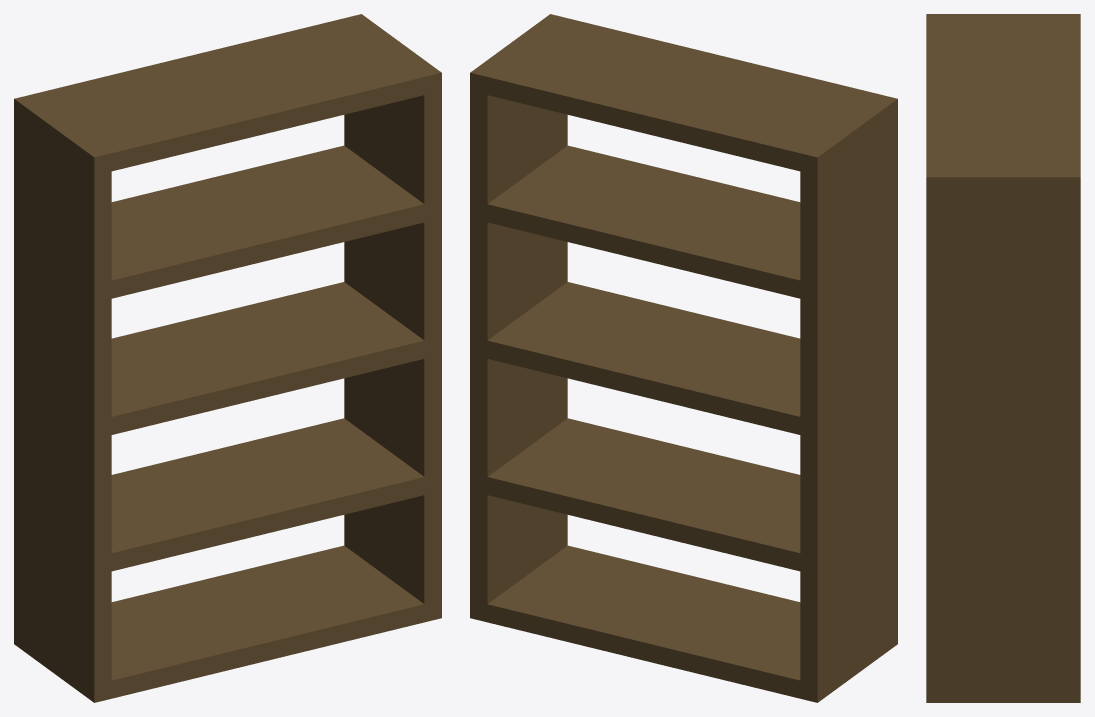
The model's file is bookshelf.fbx.
3 views of the same model, side by side, from view 1: azimuth 30°, elevation 25°; view 2: azimuth 150°, elevation 25°; view 3: azimuth 270°, elevation 25° (orthographic). The views are drawn at different scales.
Visible parts, largest first — view 1: Cube; view 2: Cube; view 3: Cube.
Part boxes in pixels (left/top/right/bottom): Cube: left=14, top=14, right=441, bottom=702; Cube: left=470, top=14, right=897, bottom=702; Cube: left=926, top=14, right=1080, bottom=702.
Size of the model in its own units: 200 by 300 by 80.
